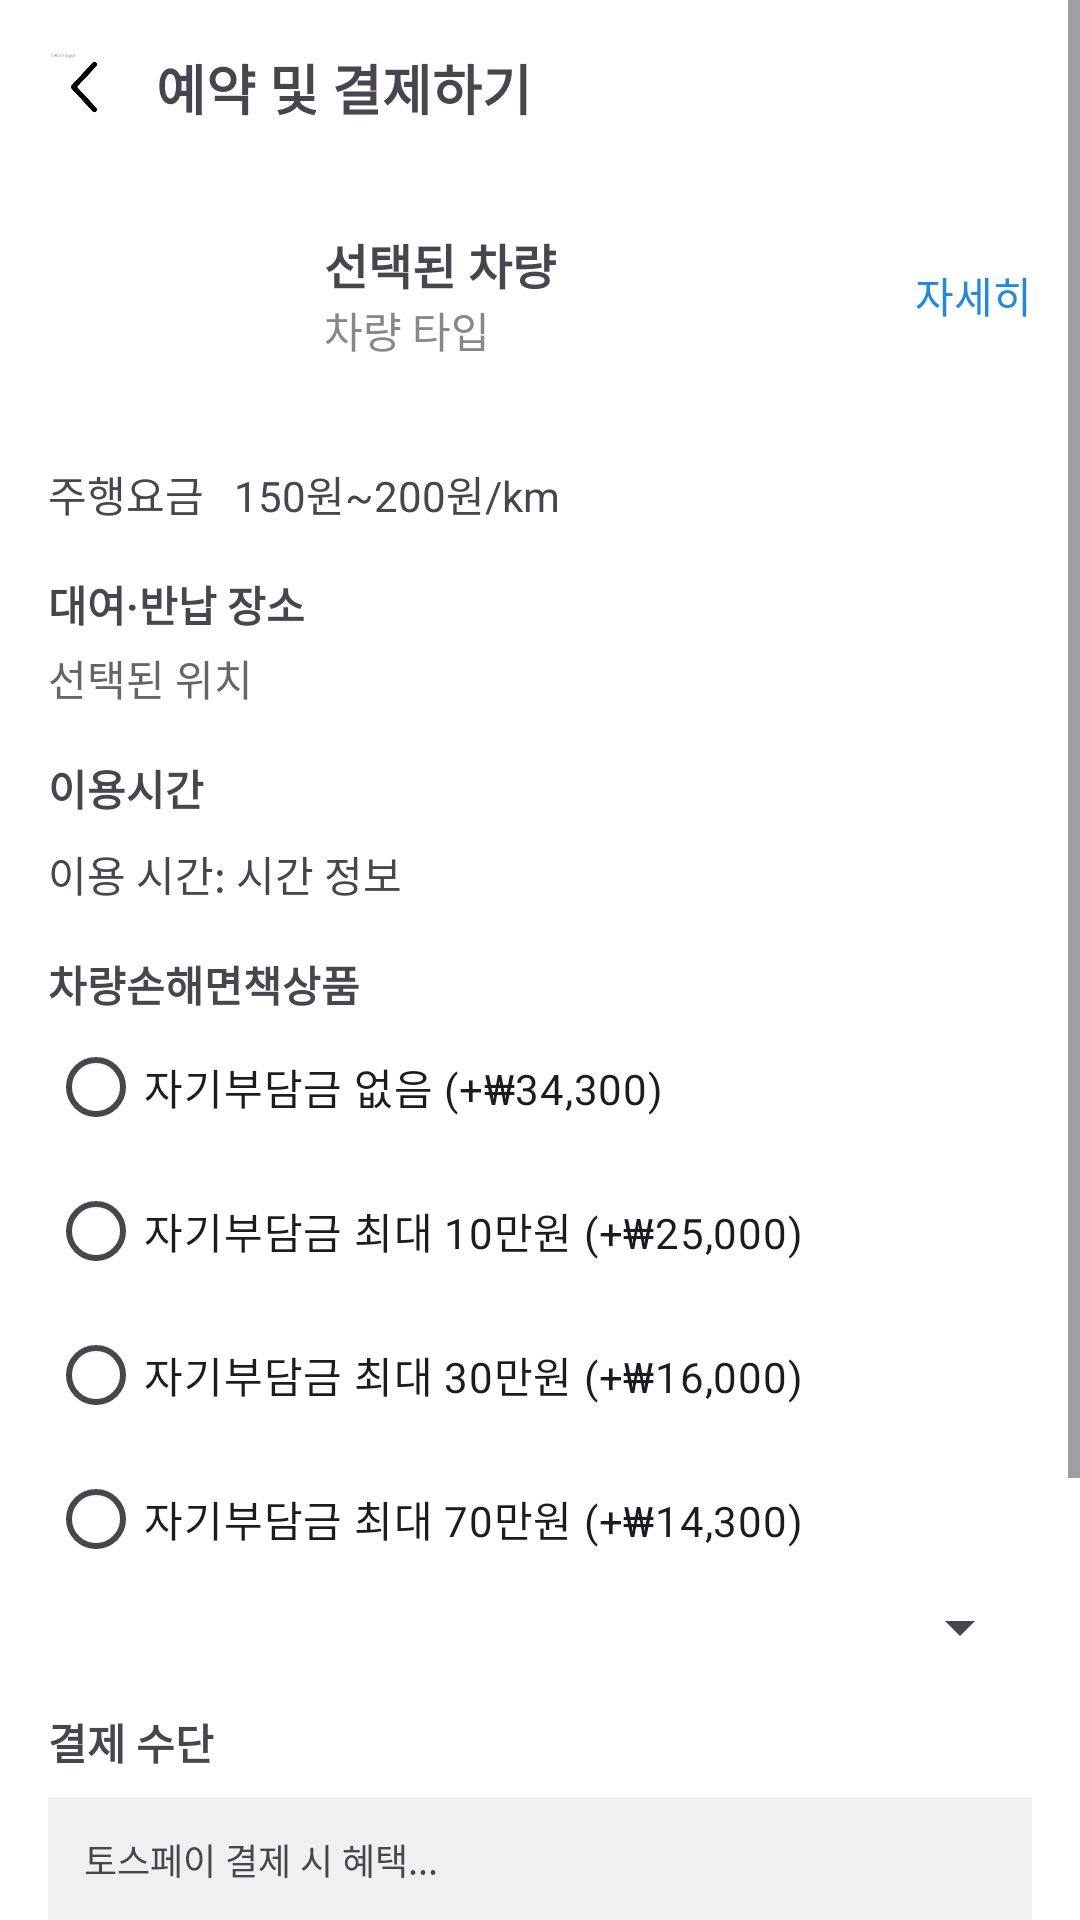

Screen size 1080x1920. Icon name, then its box in pixels as [x1,y1,x2,y2]:
뒤로가기: [51,54,97,112]
